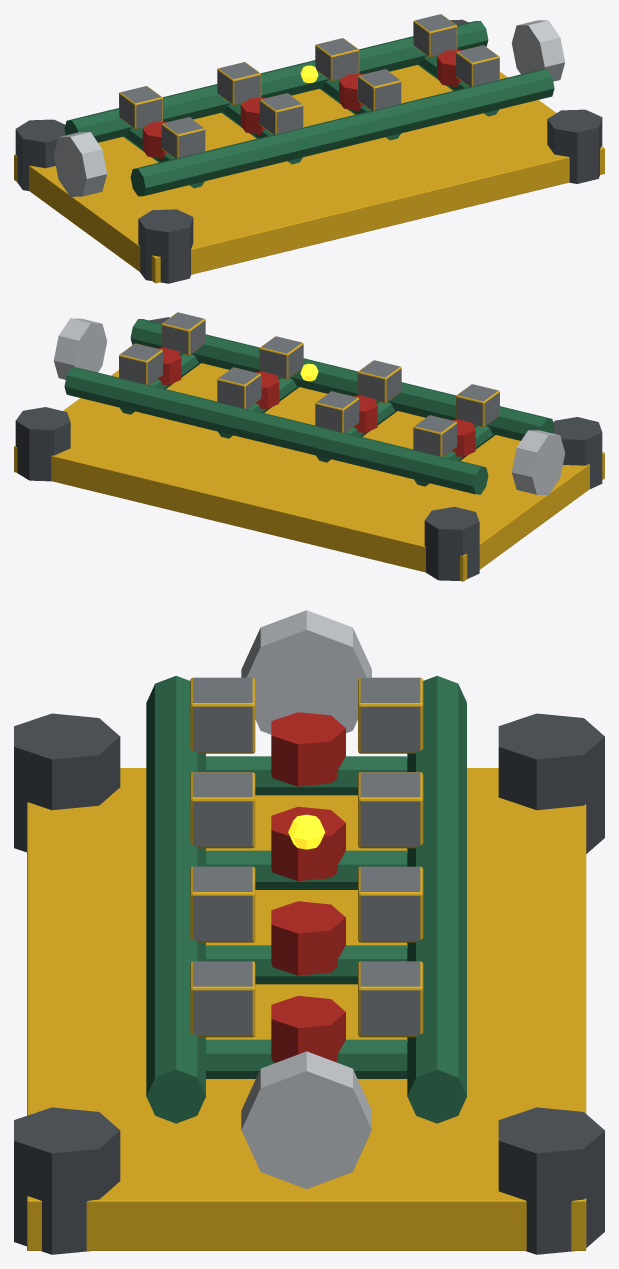
Rendered from off_subsea_manifold.glb.
3 renders of one model, top to bottom at view 1: azimuth 30°, elevation 25°; view 2: azimuth 150°, elevation 25°; view 3: azimuth 270°, elevation 25°, orthographic. The views are drawn at different scales.
Visible parts, largest first — view 1: off_subsea_manifold; view 2: off_subsea_manifold; view 3: off_subsea_manifold.
Part boxes in pixels (<box>): off_subsea_manifold: <box>14,14,604,283</box>; off_subsea_manifold: <box>14,312,604,581</box>; off_subsea_manifold: <box>14,610,604,1254</box>.
Bounding box in the file's own units: 11.7 × 2.6 × 6.34.
